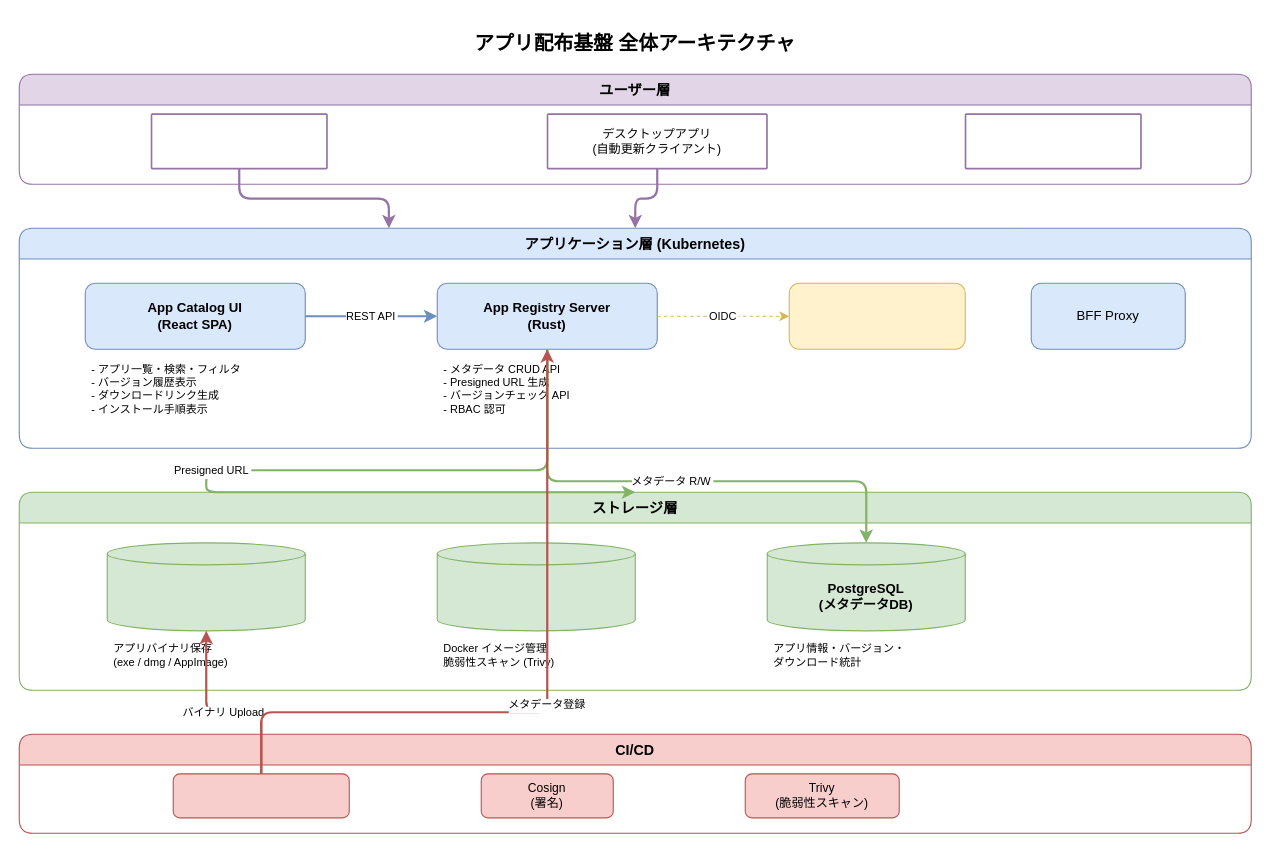
Some shapes in this 1271 by 853 pixel diagram are drawn without their labels. Each missing label, with the box of its shape:
Ceph RGW (S3 互換ストレージ): (106, 542, 305, 631)
GitHub Actions: (172, 773, 349, 818)
Harbor (OCI Registry): (436, 542, 635, 631)
Keycloak (認証・認可): (788, 282, 965, 349)
ブラウザ (App Catalog): (150, 113, 327, 169)
管理者 (GitHub Actions): (964, 113, 1141, 169)
